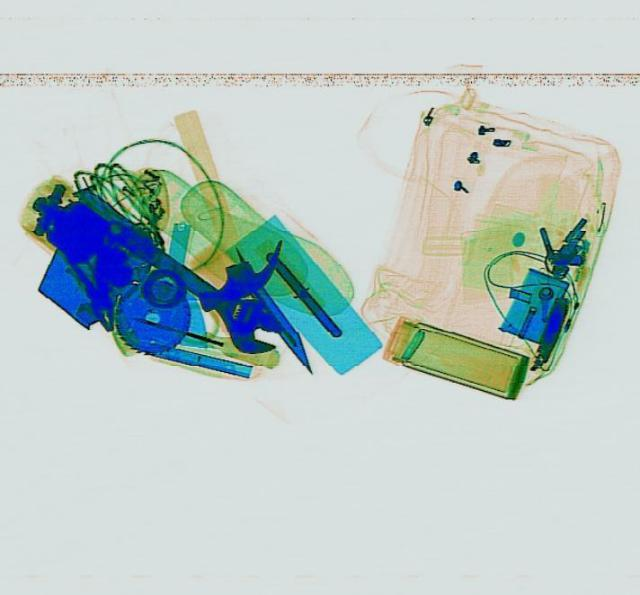Wrench: (85, 202, 297, 363)
